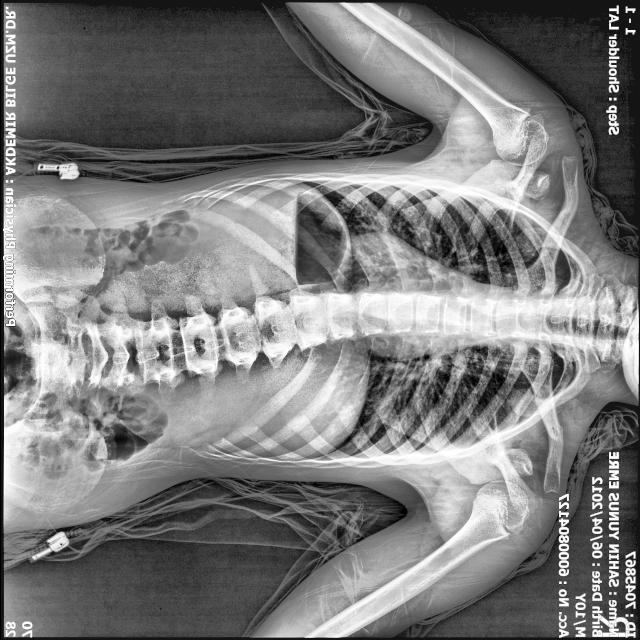Fracture: (536, 418, 566, 471)
